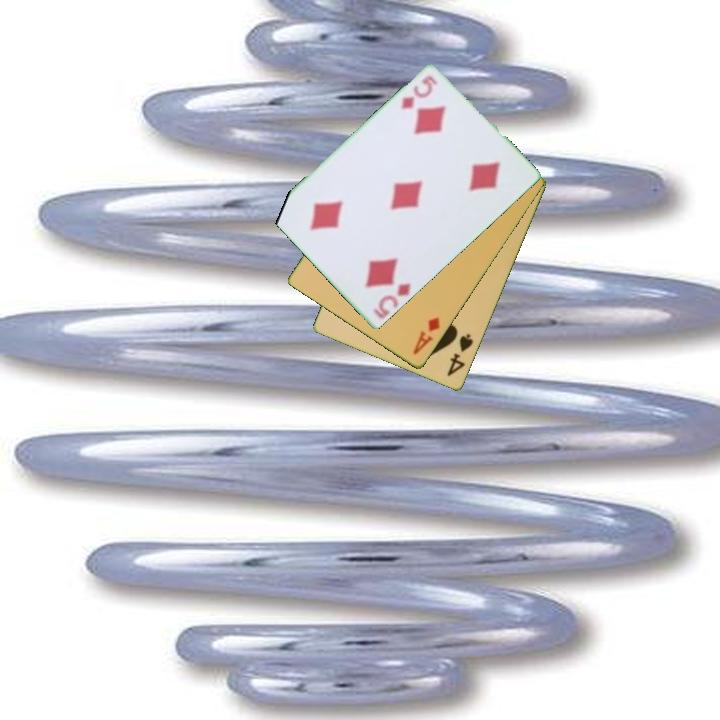4s: (443, 330, 476, 380)
5d: (370, 280, 414, 322), (397, 72, 440, 112)
Ad: (409, 314, 443, 358)
